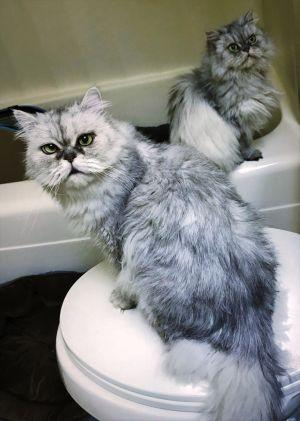persian: (10, 84, 129, 202)
